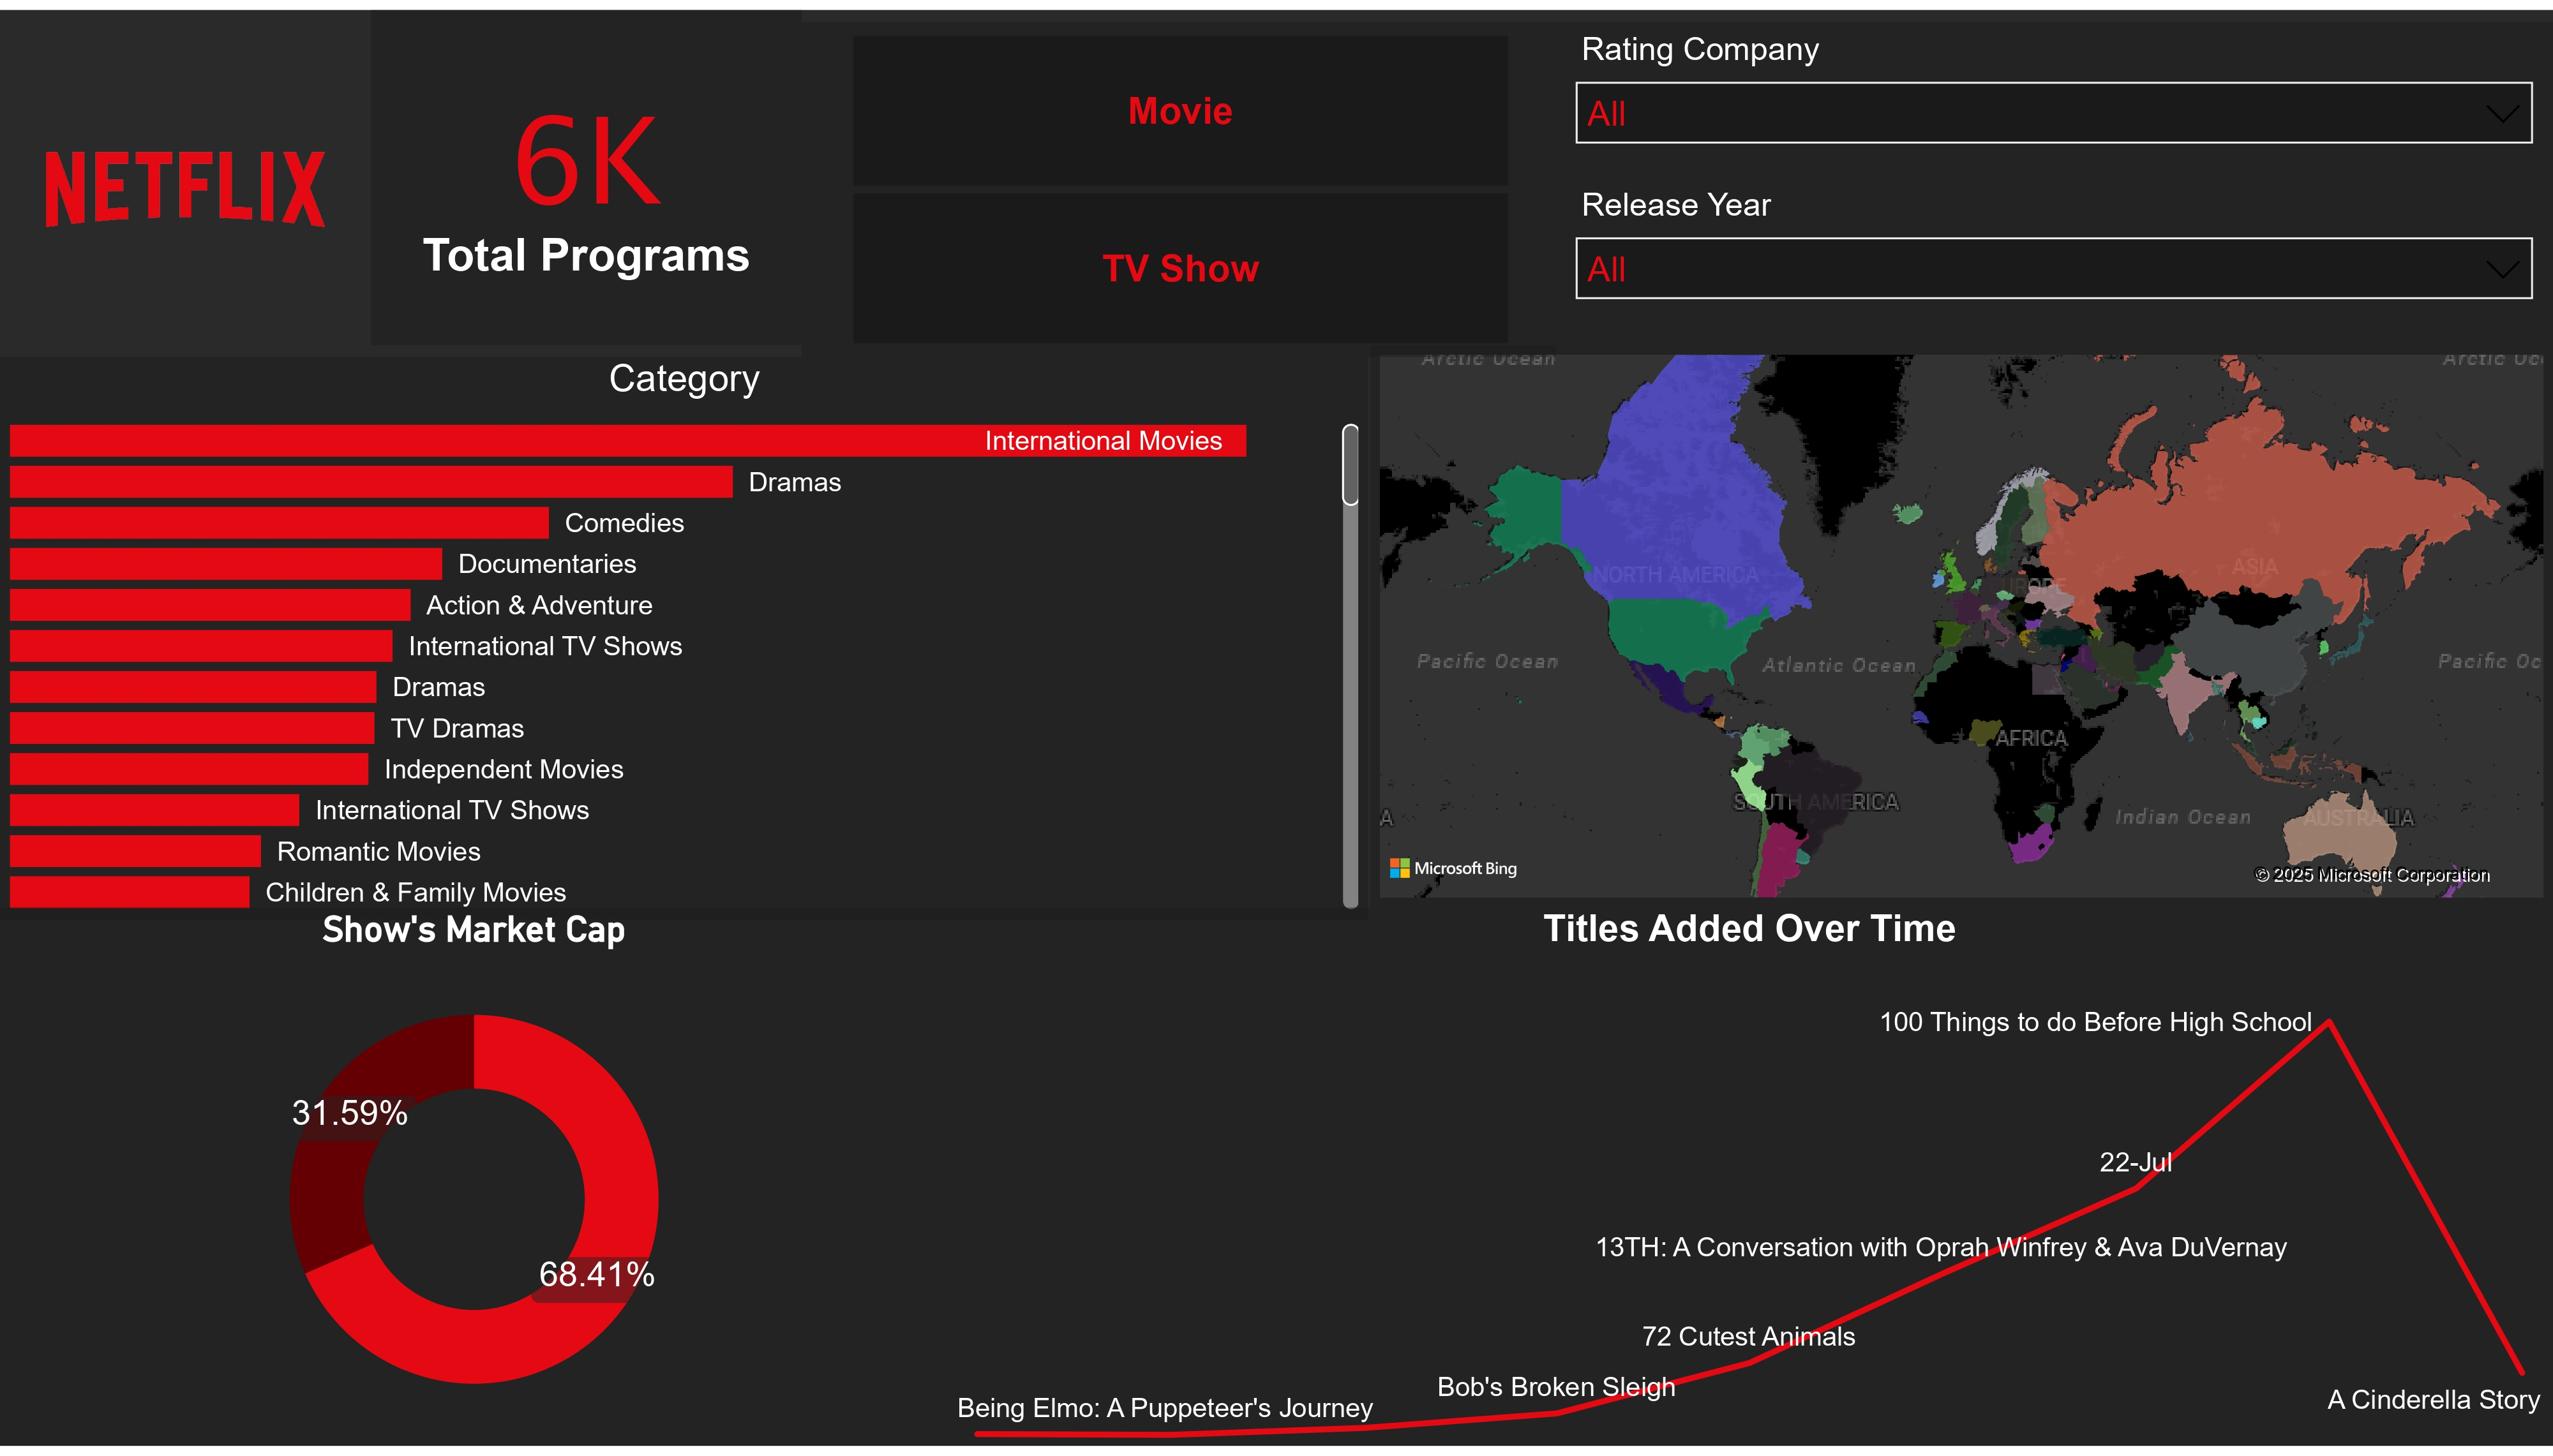

The page's visual inventory and layout, read from the dashboard file:
{"tool":"powerbi","page":{"name":"Dashboard","canvas":[1280,720],"ordinal":0},"visuals":[{"type":"card","fields":{"Values":["public netflix.Total Movies"]},"box":[185.9,0,216.4,167.6],"z":0},{"type":"image","box":[0,0,185.9,179.8],"z":1000},{"type":"clusteredBarChart","title":"Category","fields":{"Category":["Genres.genre"],"Y":["Genres.id"]},"box":[0,173.6,686.4,281.8],"z":2000},{"type":"filledMap","fields":{"Category":["Countries.country"],"Series":["Countries.id"]},"box":[687.2,167.6,592.8,281.9],"z":3000},{"type":"donutChart","title":"Show''s Market Cap ","fields":{"Category":["public netflix.type"],"Y":["public netflix.id"]},"box":[0,449.5,475.4,271.2],"z":4000},{"type":"lineChart","title":"Titles Added Over Time","fields":{"Category":["public netflix.date_added.Variation.Date Hierarchy.Year","public netflix.date_added.Variation.Date Hierarchy.Month"],"Y":["public netflix.id"]},"box":[475.4,449.5,804.6,271.2],"z":5000},{"type":"slicer","fields":{"Values":["public netflix.type"]},"box":[402.3,6.1,377.9,167.6],"z":6000},{"type":"slicer","title":"Rating Companies","fields":{"Values":["public netflix.rating"]},"box":[780.2,6.1,499.8,77.7],"z":7000},{"type":"slicer","fields":{"Values":["public netflix.release_year"]},"box":[780.2,83.8,499.8,83.8],"z":8000}]}

Visuals, with their boxes in screenshot pixels (x1, y1, x2, y2), scaled from the page's 1280x720 canvas onto the 2553x1456 screenshot:
card - public netflix.Total Movies: detection(371, 0, 802, 339)
image: detection(0, 0, 371, 364)
"Category" clusteredBarChart: detection(0, 351, 1369, 921)
filledMap - Countries.country x Countries.id: detection(1371, 339, 2552, 909)
"Show''s Market Cap " donutChart: detection(0, 909, 948, 1455)
"Titles Added Over Time" lineChart: detection(948, 909, 2552, 1455)
slicer - public netflix.type: detection(802, 12, 1556, 352)
"Rating Companies" slicer: detection(1556, 12, 2552, 170)
slicer - public netflix.release_year: detection(1556, 170, 2552, 339)
